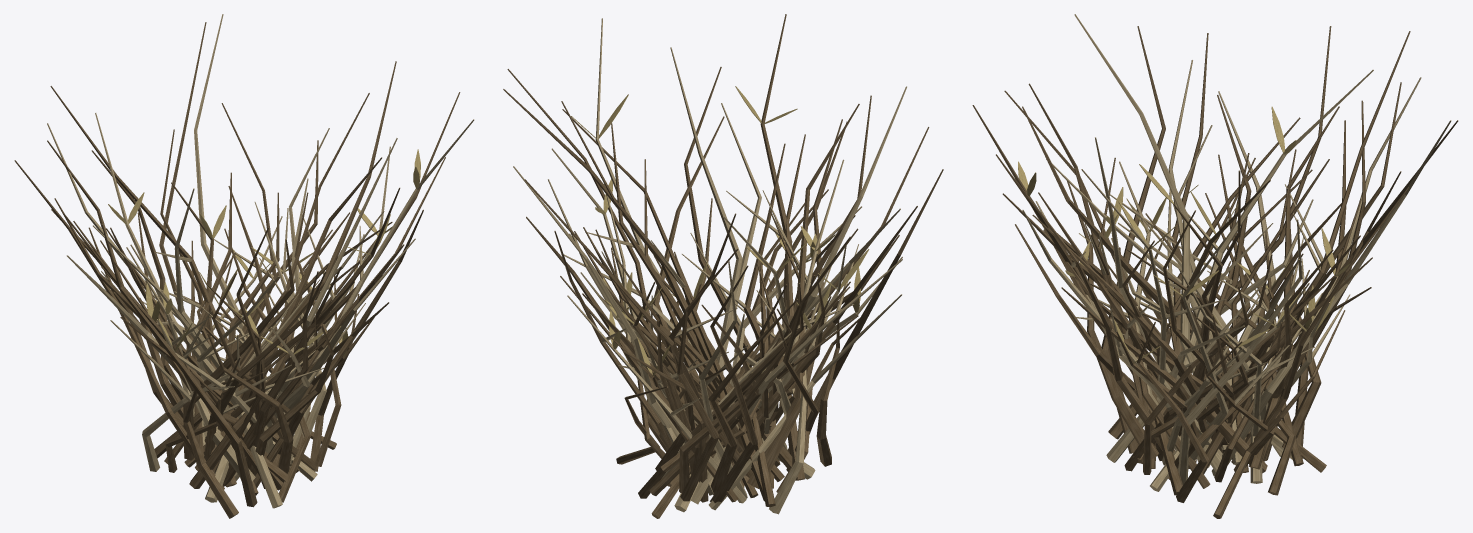
Rendered from BUSH_01_WIND_TUMBLEWEED.glb.
3 views of the same model, side by side, from view 1: azimuth 30°, elevation 25°; view 2: azimuth 150°, elevation 25°; view 3: azimuth 270°, elevation 25° (orthographic). The views are drawn at different scales.
Visible parts, largest first — view 1: BUSH_01_WIND_TUMBLEWEED__LIGNIFIED_STEMS, BUSH_01_WIND_TUMBLEWEED__PAPERY_DEAD_LEAVES; view 2: BUSH_01_WIND_TUMBLEWEED__LIGNIFIED_STEMS, BUSH_01_WIND_TUMBLEWEED__PAPERY_DEAD_LEAVES; view 3: BUSH_01_WIND_TUMBLEWEED__LIGNIFIED_STEMS, BUSH_01_WIND_TUMBLEWEED__PAPERY_DEAD_LEAVES.
Boxes of the visible parts, x1,y1,x2,y2 form: BUSH_01_WIND_TUMBLEWEED__LIGNIFIED_STEMS: [14, 14, 474, 518]; BUSH_01_WIND_TUMBLEWEED__PAPERY_DEAD_LEAVES: [108, 149, 420, 356]; BUSH_01_WIND_TUMBLEWEED__LIGNIFIED_STEMS: [503, 14, 943, 518]; BUSH_01_WIND_TUMBLEWEED__PAPERY_DEAD_LEAVES: [571, 86, 869, 376]; BUSH_01_WIND_TUMBLEWEED__LIGNIFIED_STEMS: [972, 14, 1458, 518]; BUSH_01_WIND_TUMBLEWEED__PAPERY_DEAD_LEAVES: [1018, 106, 1351, 363].
Size of the model in its own units: 0.9404 by 0.8295 by 0.9161.
1 material, 1 textured.
